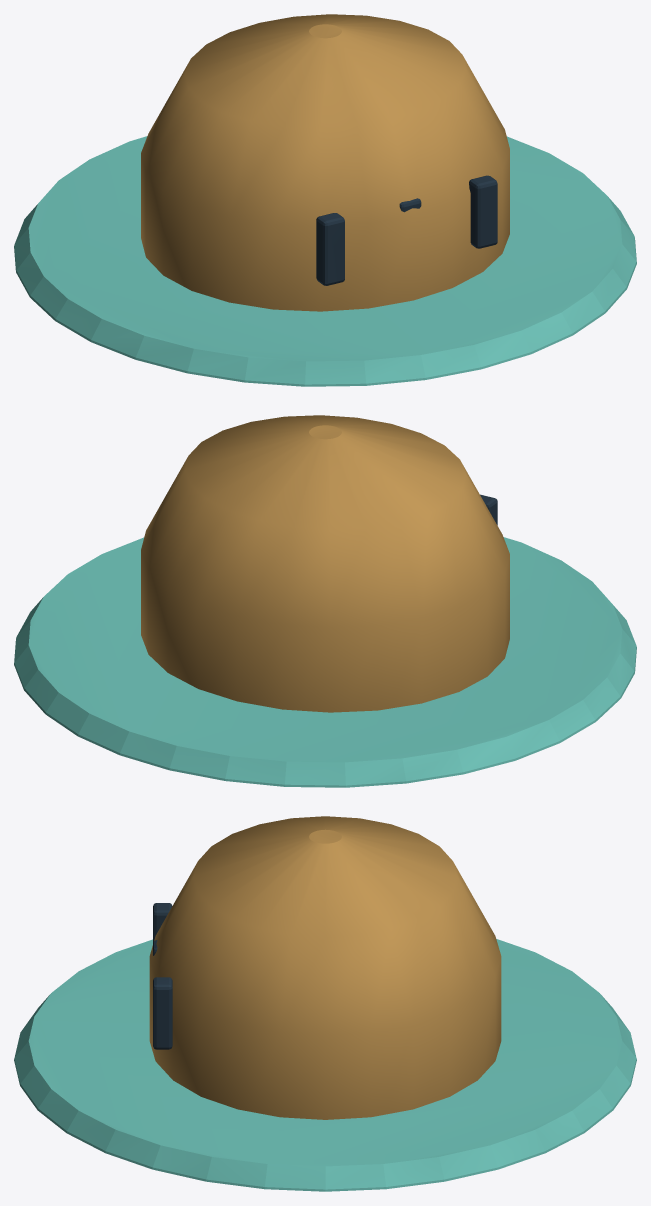
File: item_071.glb
The picture shows the model from 3 angles, top to bottom: view 1: azimuth 30°, elevation 25°; view 2: azimuth 150°, elevation 25°; view 3: azimuth 270°, elevation 25°; orthographic projection.
Parts seen in each view (by area): view 1: Item_071_brass_sunhat; view 2: Item_071_brass_sunhat; view 3: Item_071_brass_sunhat.
Part boxes in pixels (x1,y1,x2,y2): Item_071_brass_sunhat: (14, 14, 636, 386); Item_071_brass_sunhat: (14, 415, 636, 787); Item_071_brass_sunhat: (14, 816, 636, 1191).
Bounding box in the file's own units: 0.5667 × 0.2506 × 0.5667.
